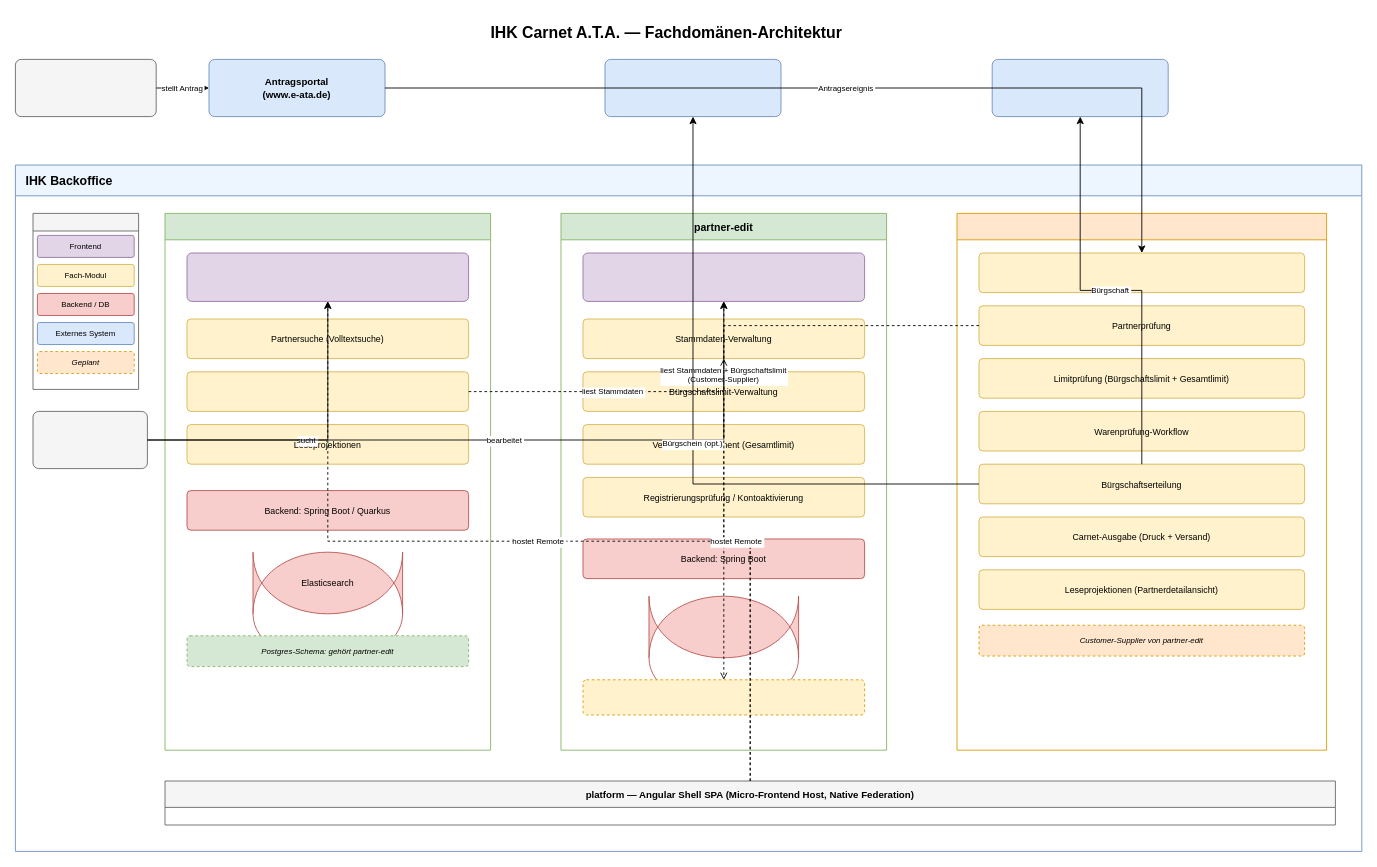
Some shapes in this 1377 by 867 pixel diagram are drawn without their labels. The shapes that lost their labels are listed below. From the top down, each one's box as (x1, y1, x2, y2) in pixels, then its label:
(15, 59, 156, 117): Partner (juristische Person)
(604, 59, 781, 117): Allianz Trade (Rückbürge)
(991, 59, 1168, 117): Ausländische Zollbehörden
(186, 252, 469, 301): Angular Remote SPA (Partnersuche)
(582, 252, 865, 301): Angular Remote SPA (Partnerbearbeitung)
(978, 252, 1305, 293): Antragsempfang (Ereignis)
(32, 213, 139, 389): Legende
(186, 371, 469, 411): Schnellsuche (Partnernummer-Lookup)
(32, 411, 147, 469): Sachbearbeiter (IHK-Mitarbeiter)
(164, 213, 491, 750): partner-search
(956, 213, 1327, 750): antrag (geplant)
(648, 595, 799, 658): Postgres (partner-edit)
(582, 679, 865, 715): Published API: Partnernummer-Schlüssel
